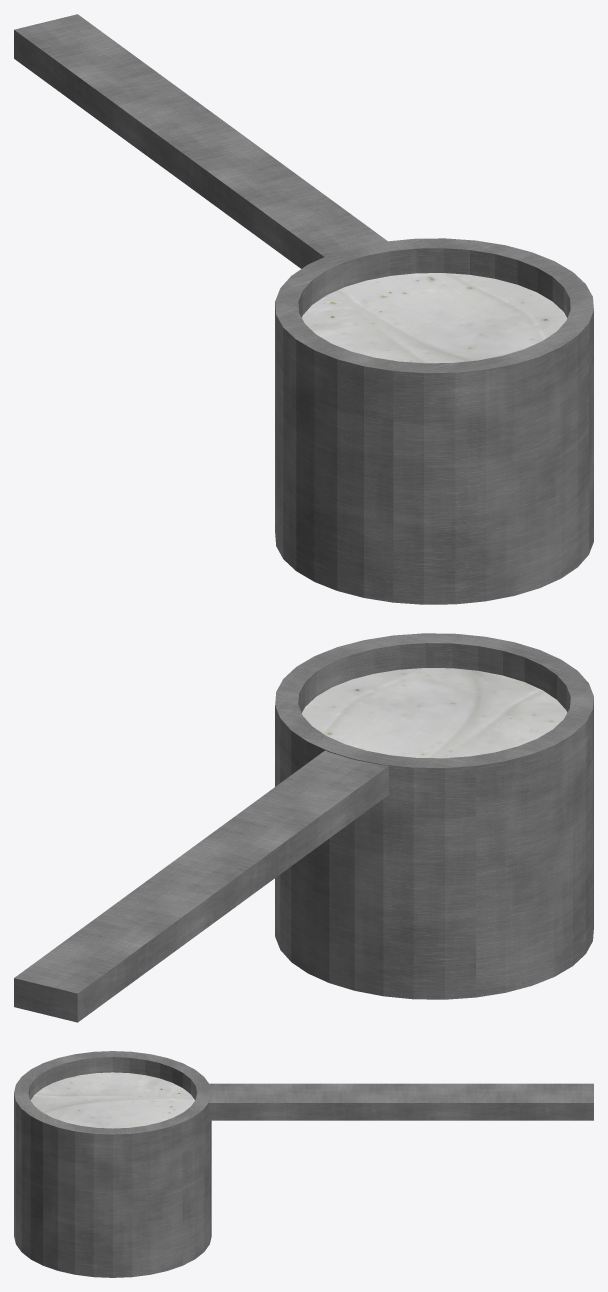
File: SauceSpoon.fbx
3 renders of one model, top to bottom at view 1: azimuth 30°, elevation 25°; view 2: azimuth 150°, elevation 25°; view 3: azimuth 270°, elevation 25°, orthographic. The views are drawn at different scales.
Visible parts, largest first — view 1: Цилиндр, Плоскость; view 2: Цилиндр, Плоскость; view 3: Цилиндр, Плоскость.
Boxes of the visible parts, x1,y1,x2,y2 form: Цилиндр: (14,14,593,604); Плоскость: (302,273,567,363); Цилиндр: (14,633,593,1022); Плоскость: (302,668,567,758); Цилиндр: (14,1051,593,1277); Плоскость: (30,1072,194,1128).
Size of the model in its own units: 200 by 160 by 587.
